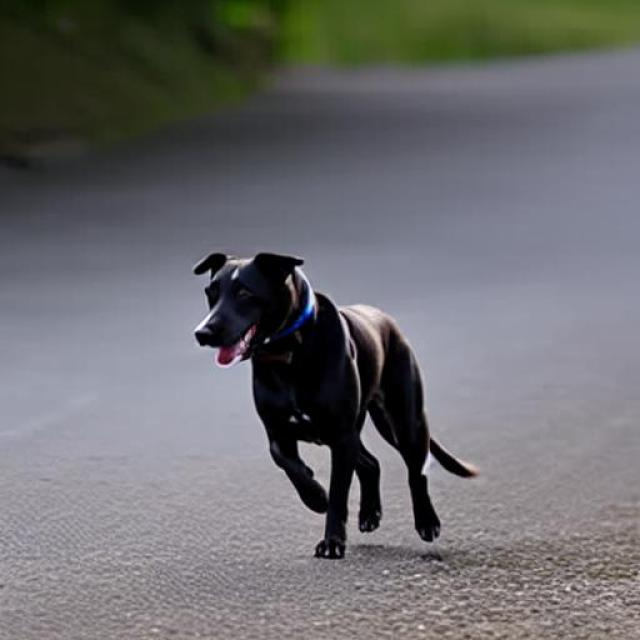Dog: (190, 250, 479, 560)
